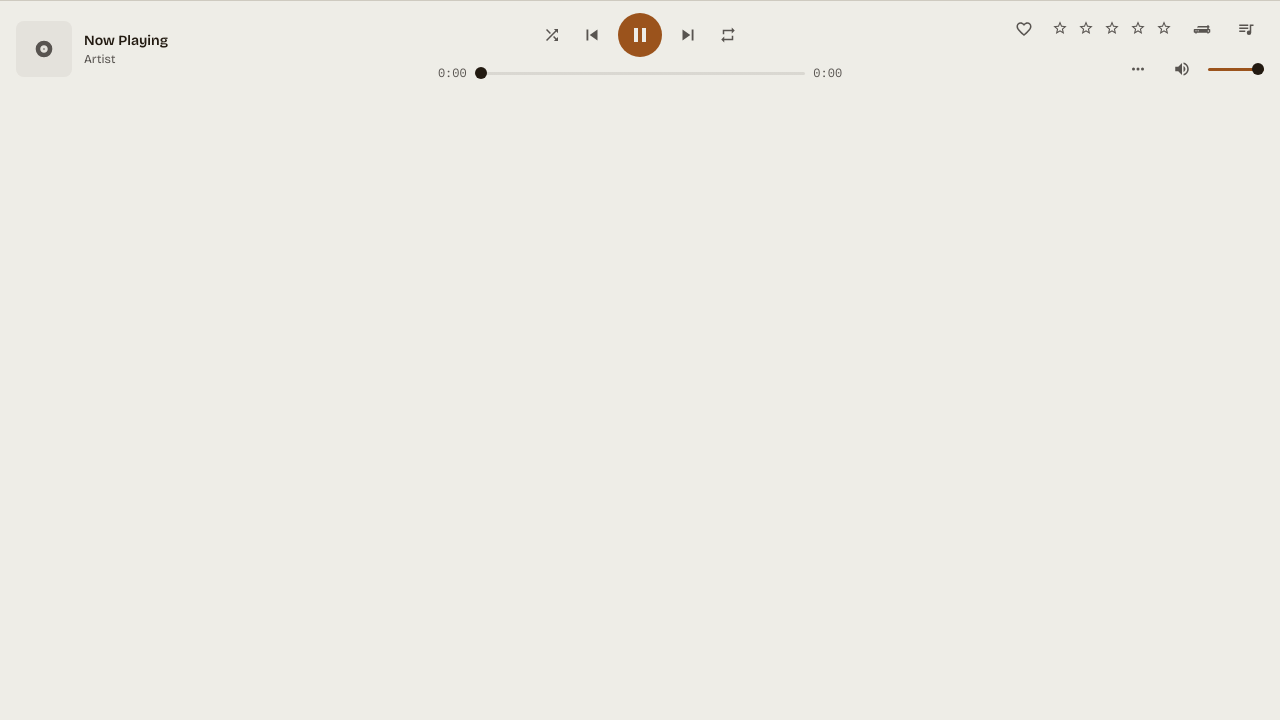
Scenario: PlayerBar › closes the floating queue modal when the close button is clicked
Click the button named "queue".
click(1246, 29)  # box [1224,7,1268,51]
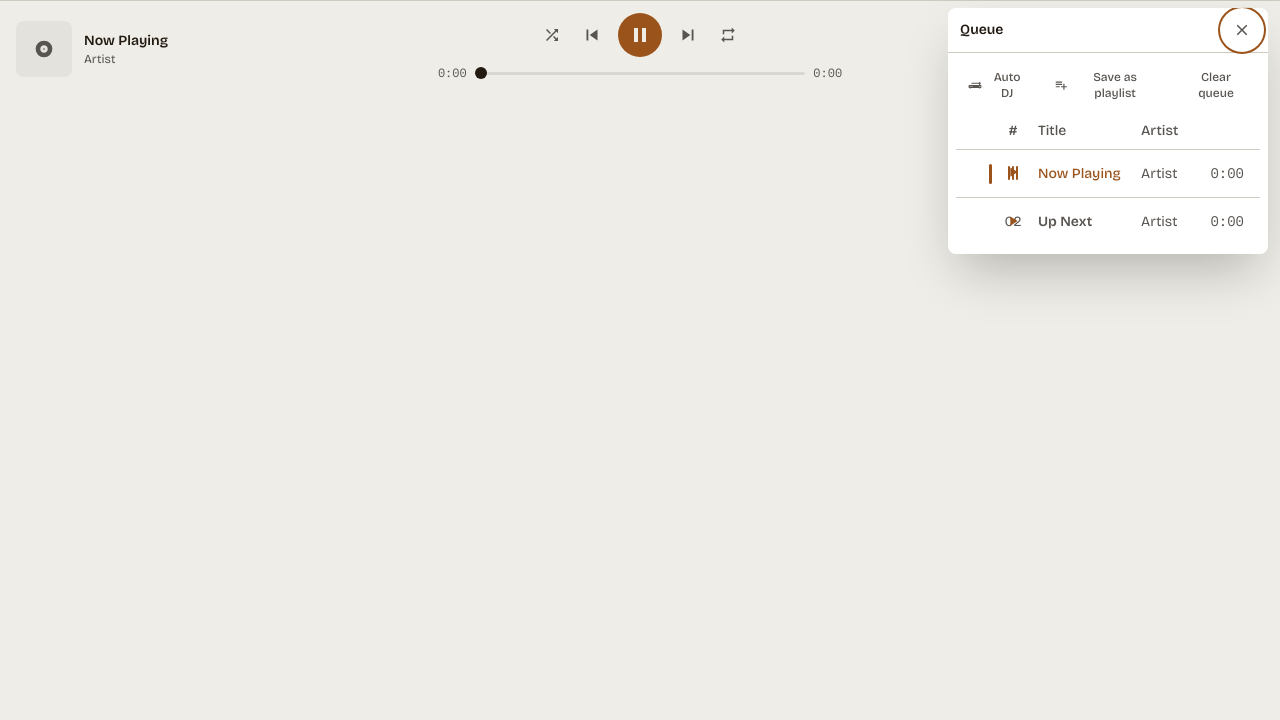
Expected: the dialog "Queue" is shown, [948,8,1268,254]
Click the button named "close queue".
click(1242, 30)  # box [1220,8,1264,52]
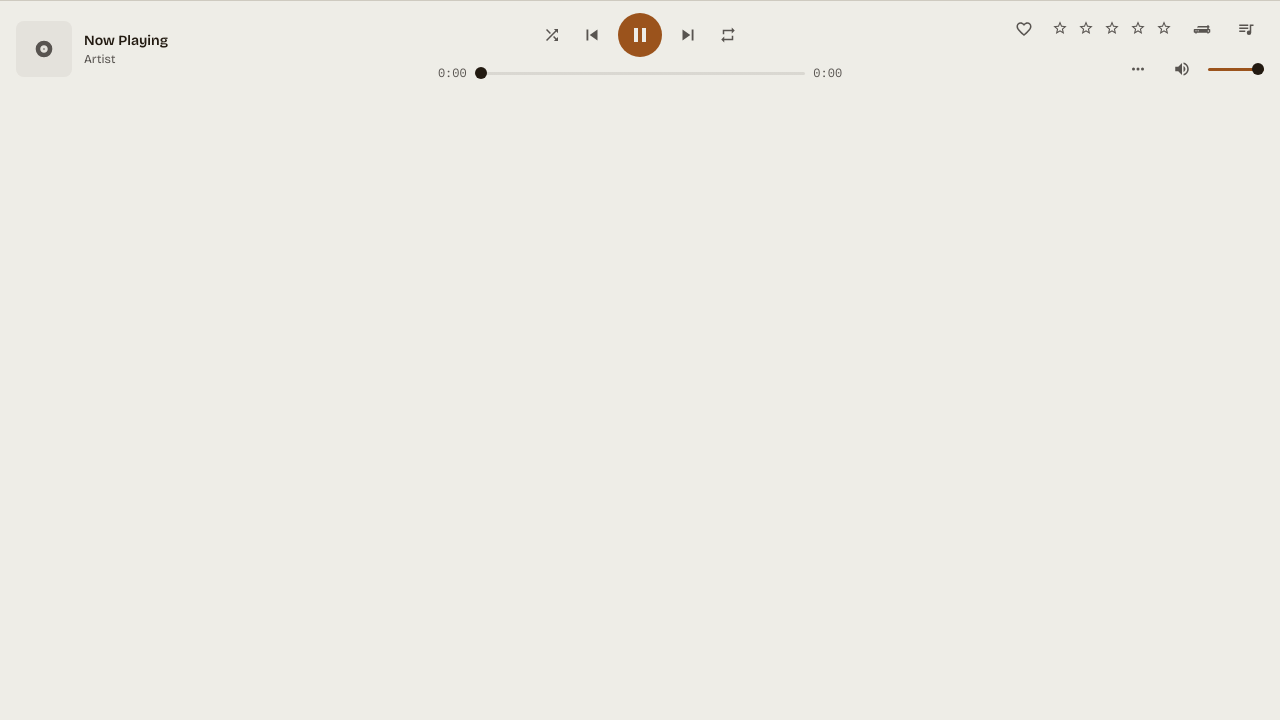
Expected: the text "Queue" is gone
